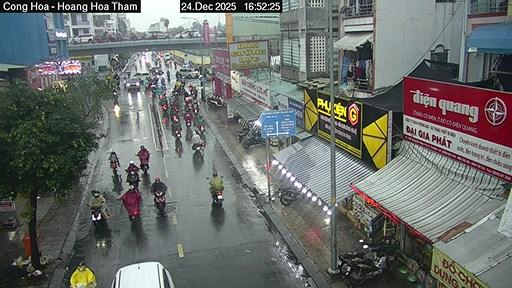motorbike: (338, 238, 393, 286), (336, 238, 386, 274), (348, 252, 386, 286), (278, 188, 303, 205), (243, 131, 263, 147), (205, 95, 224, 108), (92, 206, 105, 224), (210, 189, 223, 206), (192, 142, 204, 160), (154, 190, 163, 214), (125, 171, 137, 187), (211, 190, 223, 206), (175, 136, 182, 156), (109, 160, 118, 174), (140, 158, 147, 172), (185, 126, 192, 139), (170, 112, 178, 121), (185, 118, 191, 126), (192, 107, 198, 115), (198, 124, 204, 131)
